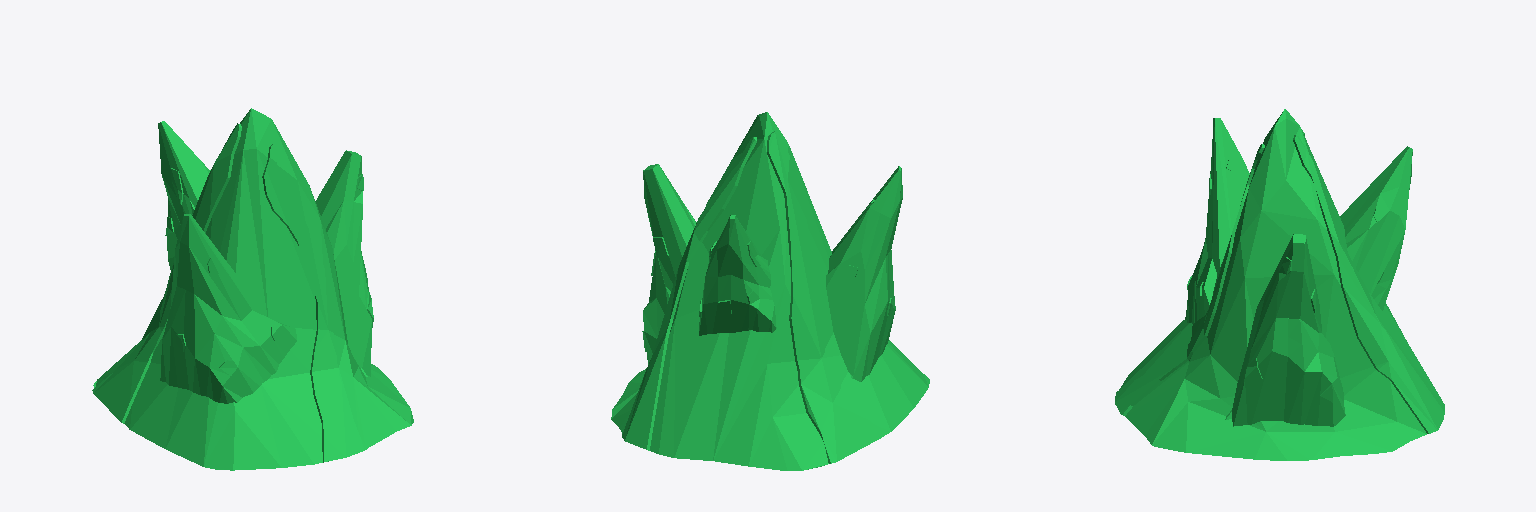
The model's file is Rich.obj.
3 renders of one model, left to right at view 1: azimuth 30°, elevation 25°; view 2: azimuth 150°, elevation 25°; view 3: azimuth 270°, elevation 25°, orthographic.
Parts seen in each view (by area): view 1: Plane.003; view 2: Plane.003; view 3: Plane.003.
Boxes of the visible parts, x1=… form: Plane.003: x1=92, y1=108, x2=413, y2=470; Plane.003: x1=611, y1=112, x2=929, y2=470; Plane.003: x1=1115, y1=109, x2=1444, y2=460.
Size of the model in its own units: 1.79 by 2 by 2.05.